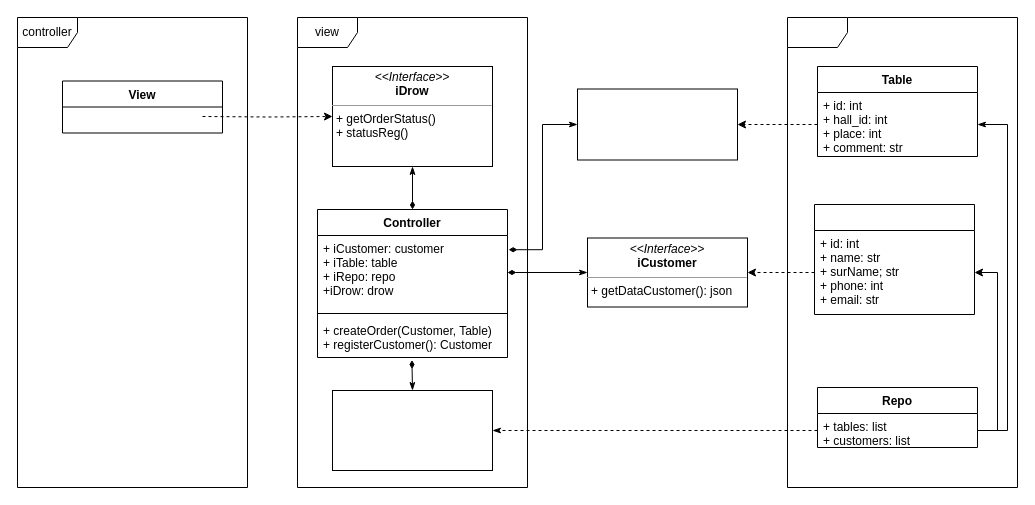
The diagram is 1035 pixels wide and 505 high, and some of its shapes have lost their labels. Each missing label, with the box of its shape:
<<Interface>> iRepo + getCustomer(): Customer + getTable(): Table: (332, 390, 492, 470)
<<Interface>> iTable + getDataTable(): json: (576, 88, 738, 160)
Customer: (814, 204, 974, 314)
model: (786, 16, 1018, 488)
